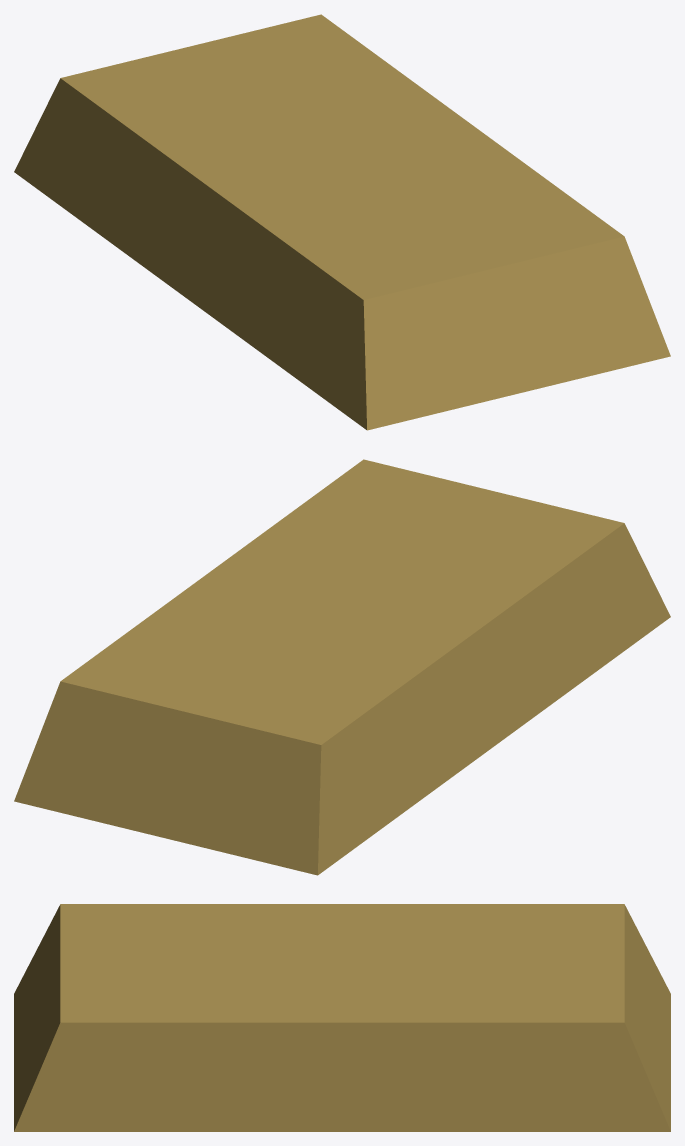
File: gold bar.fbx
The picture shows the model from 3 angles, top to bottom: view 1: azimuth 30°, elevation 25°; view 2: azimuth 150°, elevation 25°; view 3: azimuth 270°, elevation 25°; orthographic projection. The views are drawn at different scales.
Parts seen in each view (by area): view 1: pCube56; view 2: pCube56; view 3: pCube56.
Boxes of the visible parts, box(x1,y1,x2,y2) form: pCube56: box(14, 14, 670, 430); pCube56: box(14, 459, 670, 875); pCube56: box(14, 904, 670, 1131).
Size of the model in its own units: 0.4073 by 0.137 by 0.82.
